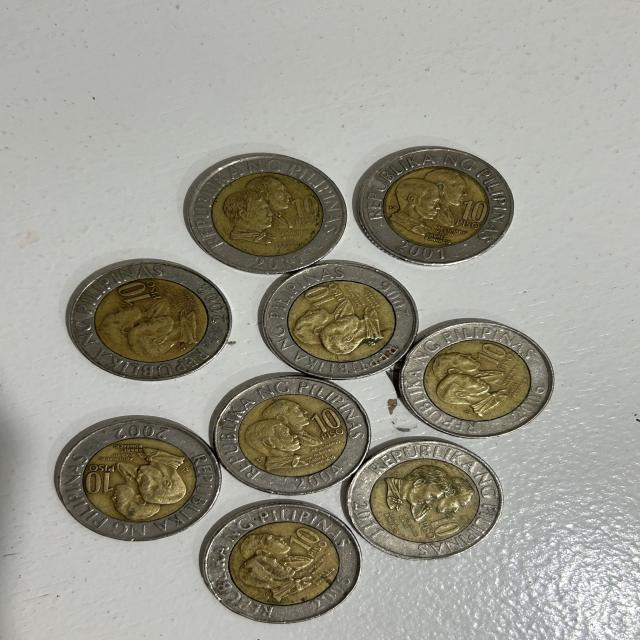10_Old_Front: (472, 336, 519, 375), (282, 522, 330, 557), (108, 282, 170, 307), (285, 191, 326, 228), (415, 510, 464, 540), (307, 406, 345, 441), (82, 461, 116, 497), (455, 199, 491, 232), (302, 284, 351, 308)
